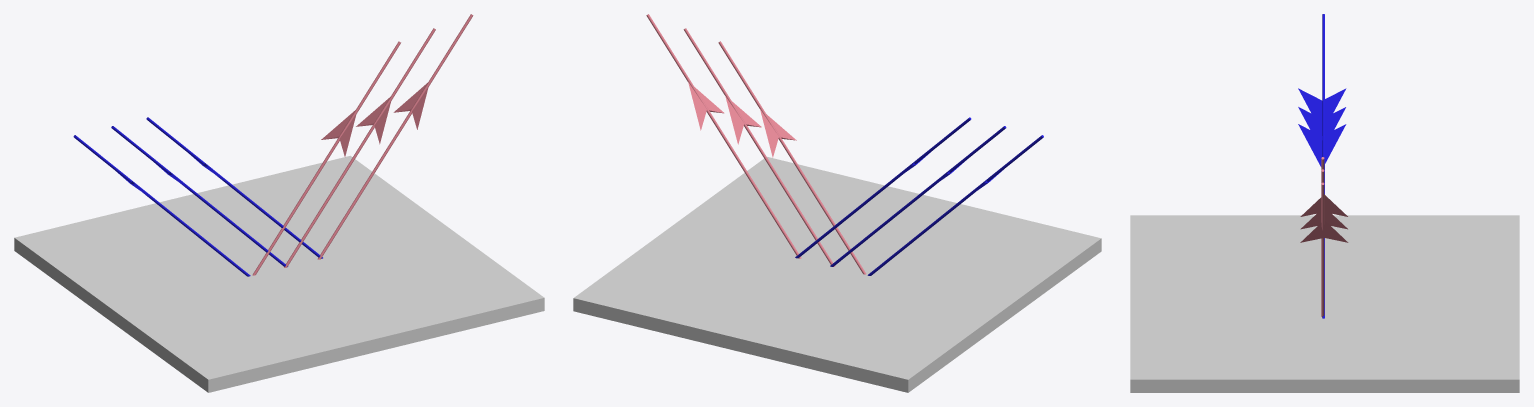
Rendered from smoothsurface.gltf.
3 renders of one model, left to right at view 1: azimuth 30°, elevation 25°; view 2: azimuth 150°, elevation 25°; view 3: azimuth 270°, elevation 25°, orthographic.
Visible parts, largest first — view 1: Cube.001, Cube.006, Cube.003; view 2: Cube.001, Cube.006, Cube.003; view 3: Cube.001, Cube.003, Cube.006.
Boxes of the visible parts, x1,y1,x2,y2 form: Cube.001: (14,155,544,392); Cube.006: (252,14,473,275); Cube.003: (73,117,322,276); Cube.001: (573,157,1101,392); Cube.006: (646,14,866,274); Cube.003: (795,117,1043,275); Cube.001: (1130,215,1519,392); Cube.003: (1298,14,1346,318); Cube.006: (1300,157,1348,316).
Bounding box in the file's own units: 18.99 × 10.05 × 16.
